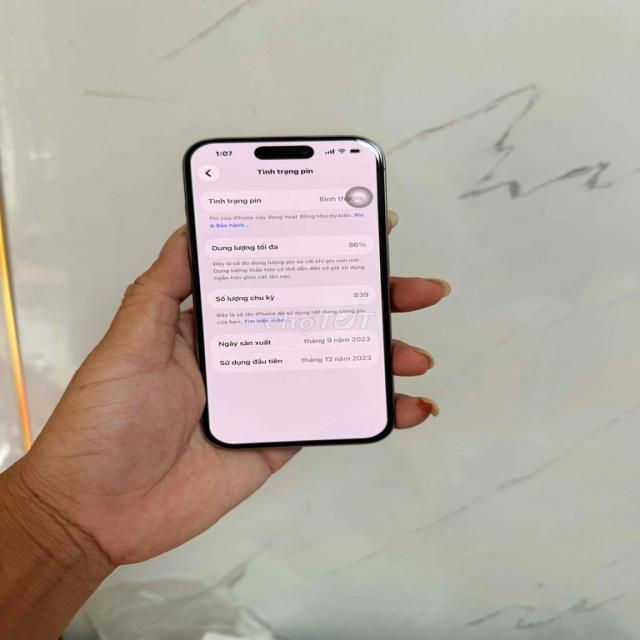gen_15: (163, 126, 404, 456)
